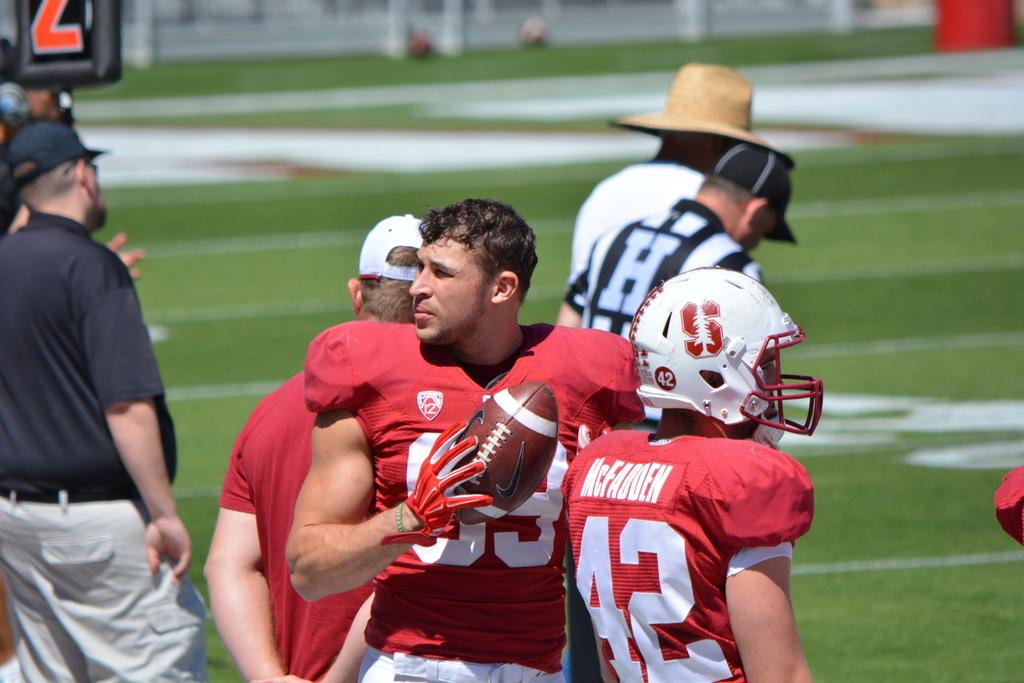Hat: (607, 57, 800, 164), (712, 144, 797, 242), (2, 120, 110, 187), (355, 209, 427, 277)
